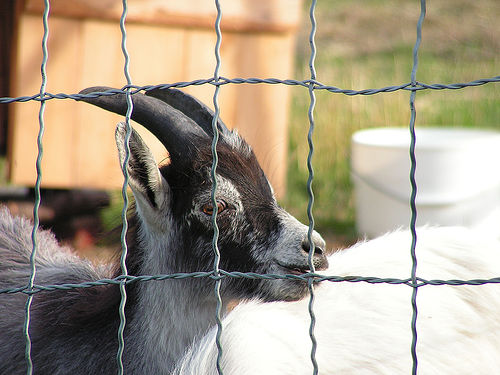goat: (1, 84, 331, 375)
